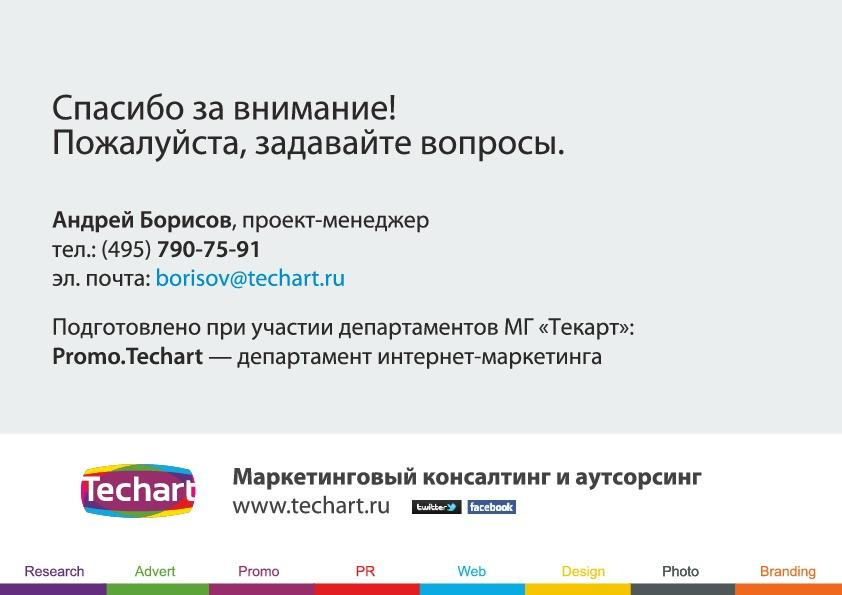paragraph: (37, 200, 702, 380)
subtitle: (68, 447, 780, 525), (7, 553, 838, 582)
title: (46, 82, 586, 173)
